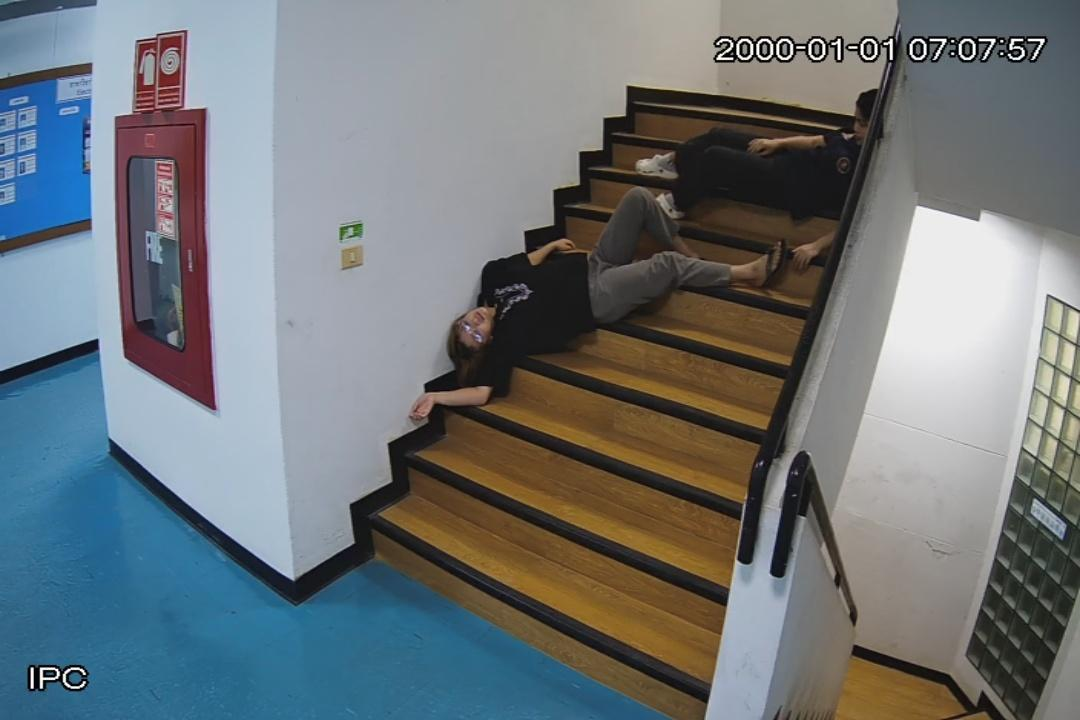fall: (415, 191, 781, 404), (645, 91, 878, 226)
